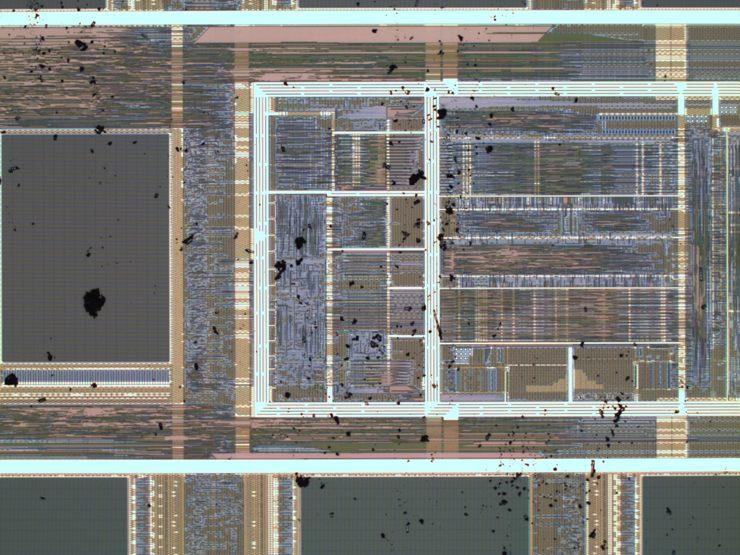PO CONTAMINATION: (1, 1, 729, 555)
